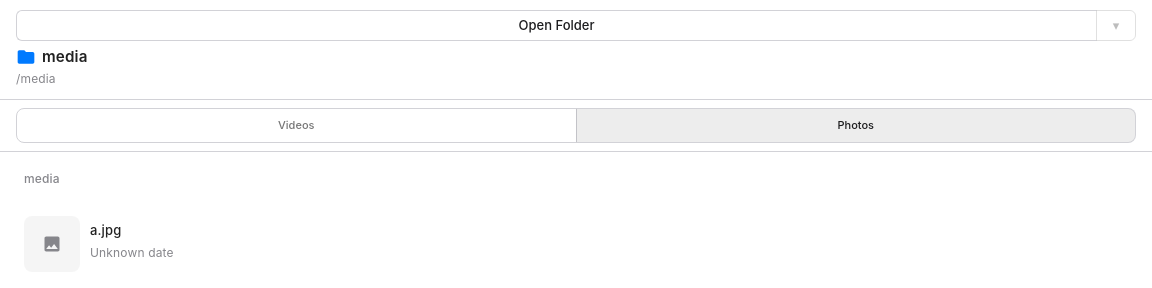
Scenario: PhotosSidebar › offers Reveal in Finder on a photo row, like the video rows already do
Right-click the button with test id "photos-sidebar-row" at (99, 244), box 24,216 -> 174,272
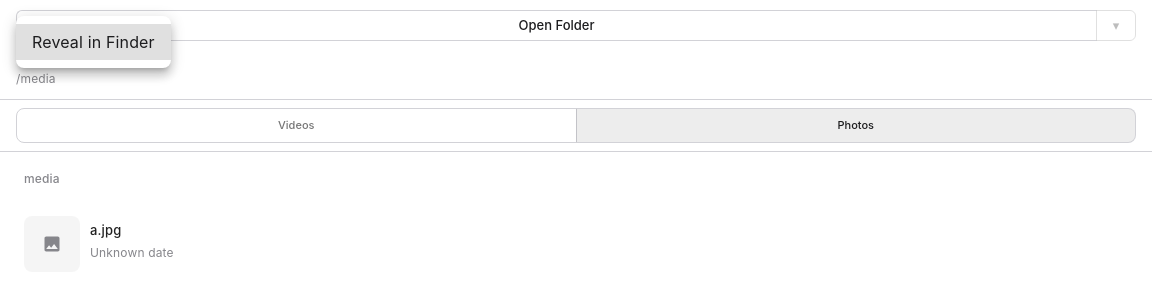
Expected: the menu item with test id "reveal-in-finder-item" is shown, 16,24 -> 171,60
